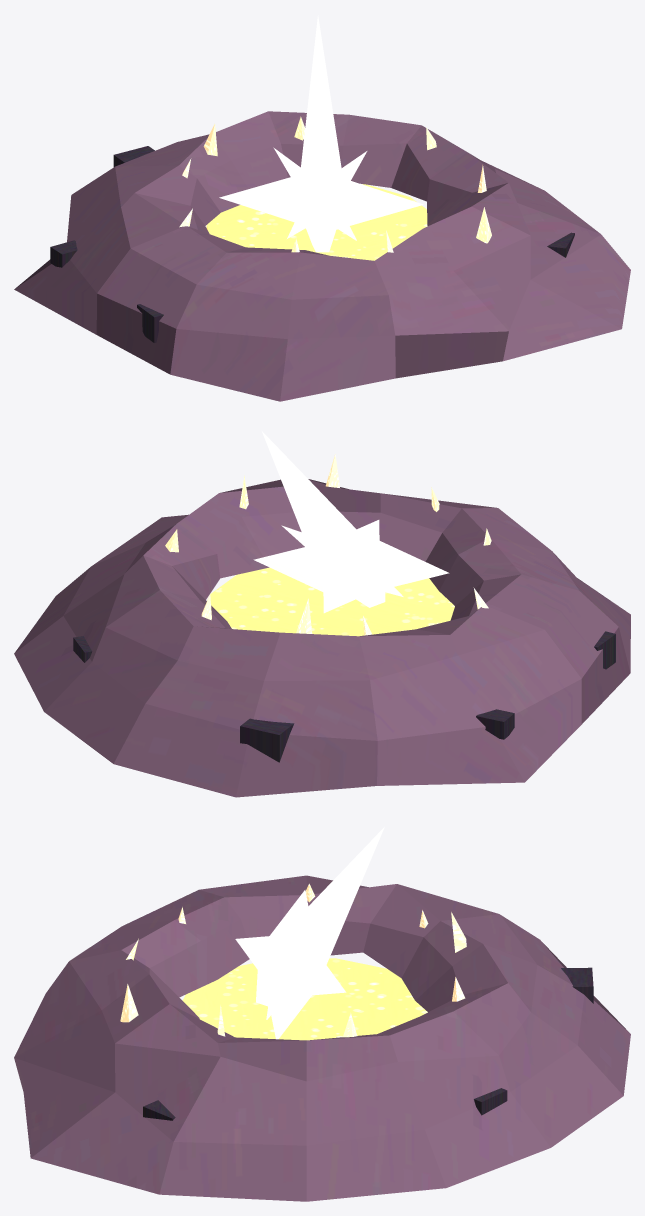
Rendered from AT_FallenStar.fbx.
The picture shows the model from 3 angles, top to bottom: view 1: azimuth 30°, elevation 25°; view 2: azimuth 150°, elevation 25°; view 3: azimuth 270°, elevation 25°; orthographic projection. The views are drawn at different scales.
Parts seen in each view (by area): view 1: CraterRim, CraterGlow, StarCore_0, StarCore_1, StarCore_2, StarCore_4, StarCore_3, Boulder0, Boulder4; view 2: CraterRim, CraterGlow, StarCore_0, StarCore_1, Boulder2, StarCore_2, StarCore_5, Boulder4, Boulder0; view 3: CraterRim, CraterGlow, StarCore_0, StarCore_2, StarCore_4, StarCore_5, Boulder2, StarCore_1, Boulder3.
Part boxes in pixels (x1,y1,x2,y2): CraterRim: (14, 111, 630, 401); CraterGlow: (206, 184, 427, 260); StarCore_0: (299, 15, 344, 190); StarCore_1: (219, 177, 328, 226); StarCore_2: (336, 181, 423, 229); StarCore_4: (306, 184, 347, 229); StarCore_3: (306, 209, 342, 252); Boulder0: (137, 304, 163, 342); Boulder4: (50, 240, 77, 267); CraterRim: (14, 479, 630, 797); CraterGlow: (210, 567, 454, 636); StarCore_0: (262, 431, 374, 592); StarCore_1: (349, 538, 449, 597); Boulder2: (240, 718, 294, 762); StarCore_2: (253, 547, 323, 591); StarCore_5: (323, 567, 370, 613); Boulder4: (476, 709, 514, 739); Boulder0: (594, 631, 615, 669); CraterRim: (14, 875, 630, 1201); CraterGlow: (182, 958, 427, 1040); StarCore_0: (258, 827, 384, 976); StarCore_2: (265, 954, 312, 1039); StarCore_4: (235, 935, 275, 981); StarCore_5: (312, 965, 346, 995); Boulder2: (561, 967, 593, 1003); StarCore_1: (270, 890, 308, 940); Boulder3: (474, 1088, 507, 1115).
Size of the model in its own units: 31.98 by 14.3 by 31.29.
1 material, 1 textured.
